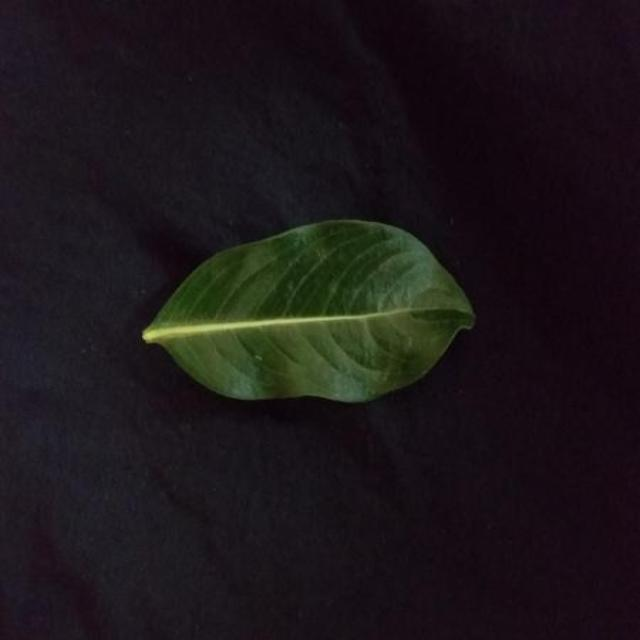catharanthus: (143, 220, 473, 402)
